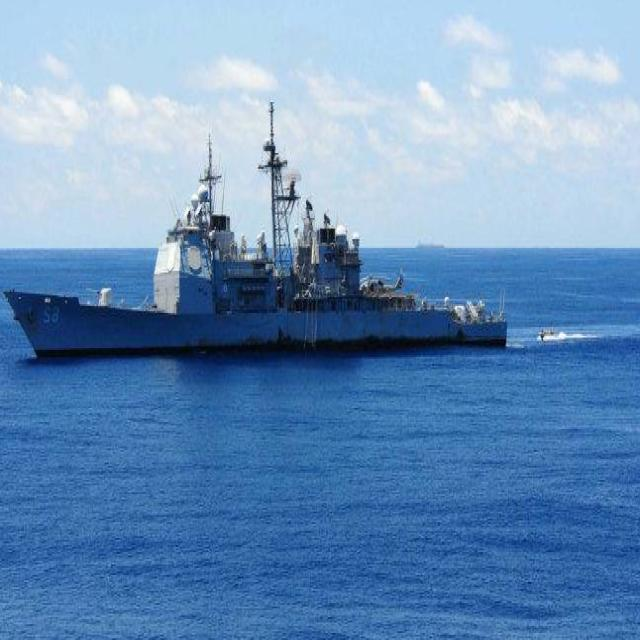navalvessels: (5, 118, 504, 370)
